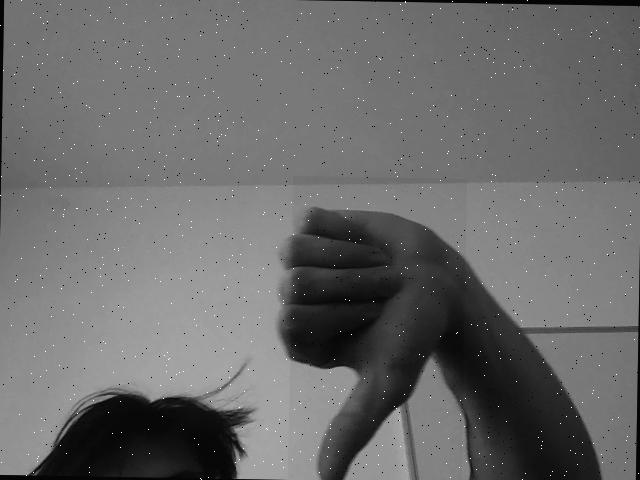bad: (287, 175, 467, 480)
